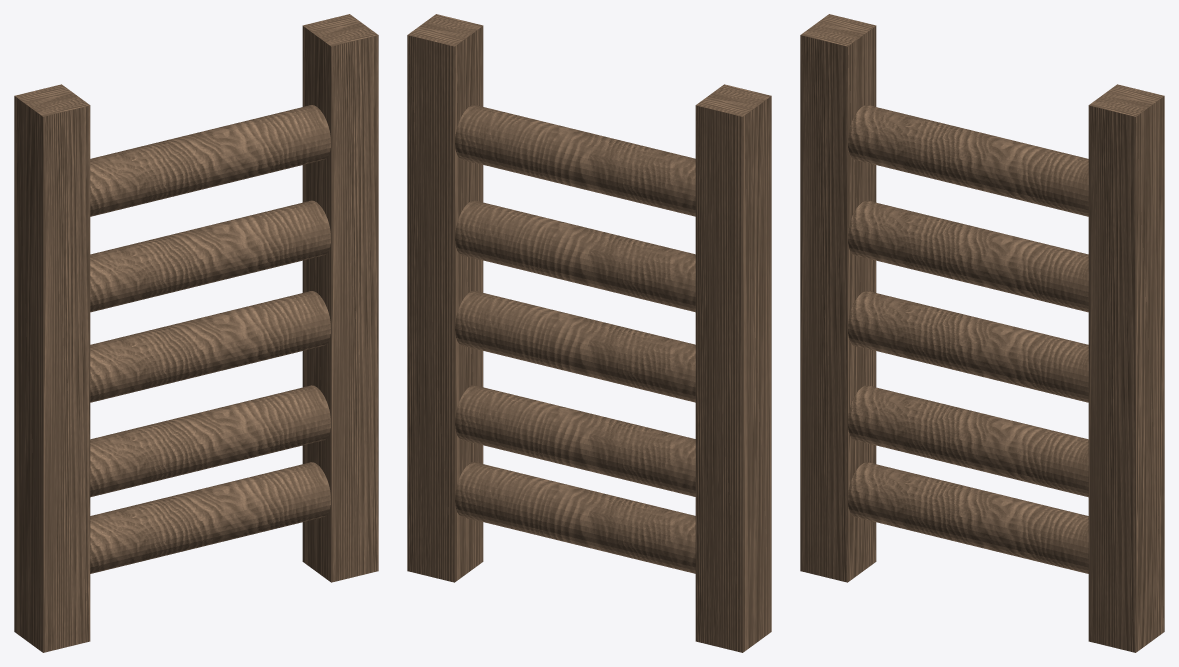
The model's file is Ladder.fbx.
The picture shows the model from 3 angles, left to right: view 1: azimuth 30°, elevation 25°; view 2: azimuth 150°, elevation 25°; view 3: azimuth 330°, elevation 25°; orthographic projection.
Visible parts, largest first — view 1: Side1, Side0, Step0, Step1, Step3, Step2, Step4; view 2: Side1, Side0, Step0, Step1, Step2, Step4, Step3; view 3: Side0, Side1, Step0, Step1, Step3, Step2, Step4.
Part boxes in pixels (left/top/right/bottom): Side1: left=14, top=84, right=90, bottom=652; Side0: left=302, top=14, right=378, bottom=582; Step0: left=90, top=462, right=330, bottom=573; Step1: left=90, top=385, right=330, bottom=497; Step3: left=90, top=200, right=330, bottom=312; Step2: left=90, top=291, right=330, bottom=402; Step4: left=90, top=105, right=330, bottom=216; Side1: left=695, top=84, right=771, bottom=652; Side0: left=407, top=14, right=483, bottom=582; Step0: left=455, top=462, right=695, bottom=573; Step1: left=455, top=385, right=695, bottom=496; Step2: left=455, top=290, right=695, bottom=402; Step4: left=455, top=105, right=695, bottom=216; Step3: left=455, top=200, right=695, bottom=312; Side0: left=1088, top=84, right=1164, bottom=652; Side1: left=800, top=14, right=876, bottom=582; Step0: left=848, top=462, right=1088, bottom=573; Step1: left=848, top=385, right=1088, bottom=497; Step3: left=848, top=200, right=1088, bottom=312; Step2: left=848, top=291, right=1088, bottom=402; Step4: left=848, top=105, right=1088, bottom=216.
Bounding box in the file's own units: 58.93 × 90 × 8.76.
7 materials, 7 textured.
